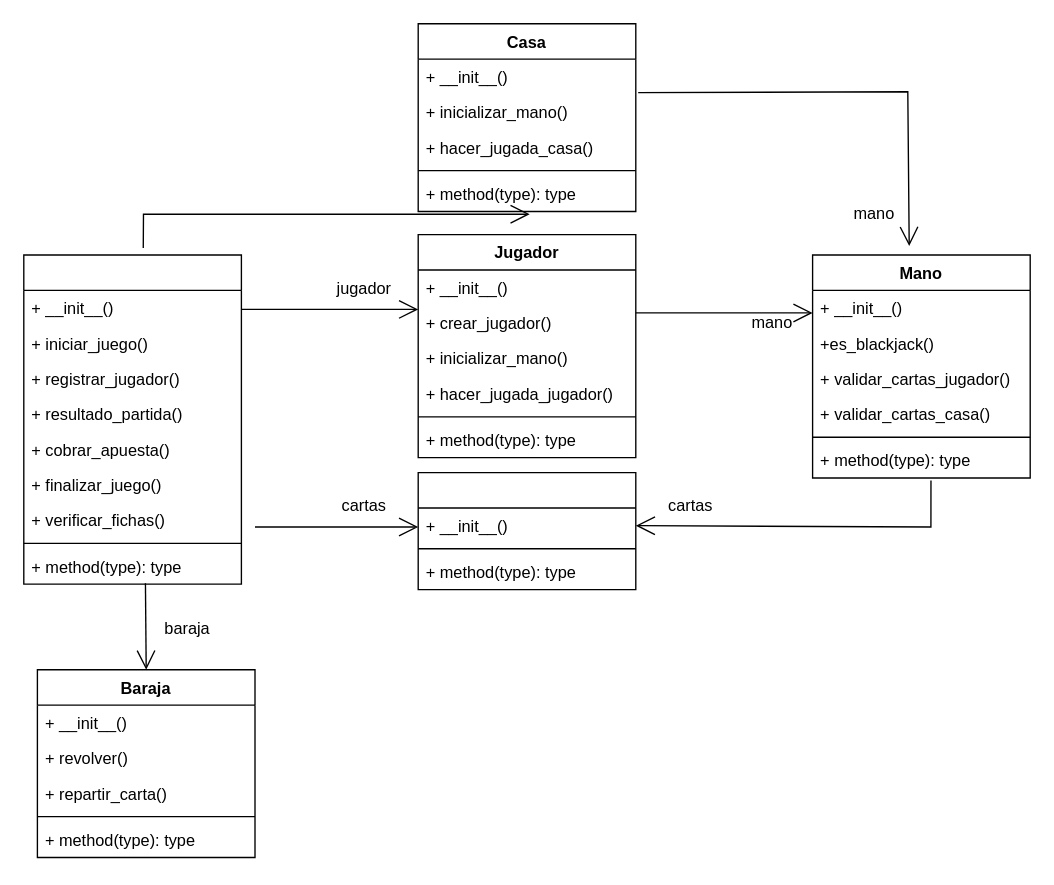
This 1054x885 diagram has some shape labels left out. The box of each missing label's shape, as (x1, y1, x2, y2) in pixels:
Blackjack: (22, 254, 241, 584)
Carta: (417, 471, 636, 590)
